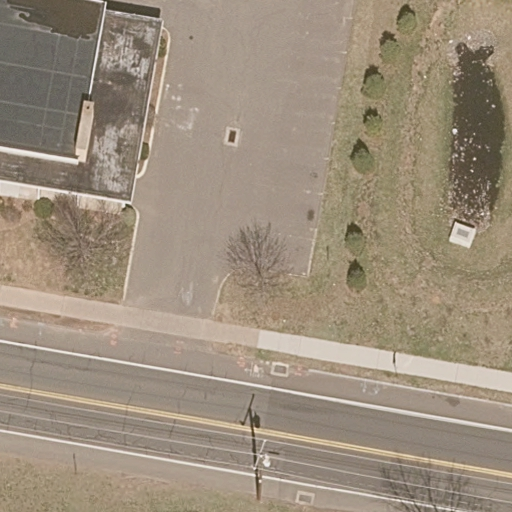DT: (252, 438, 271, 483)
